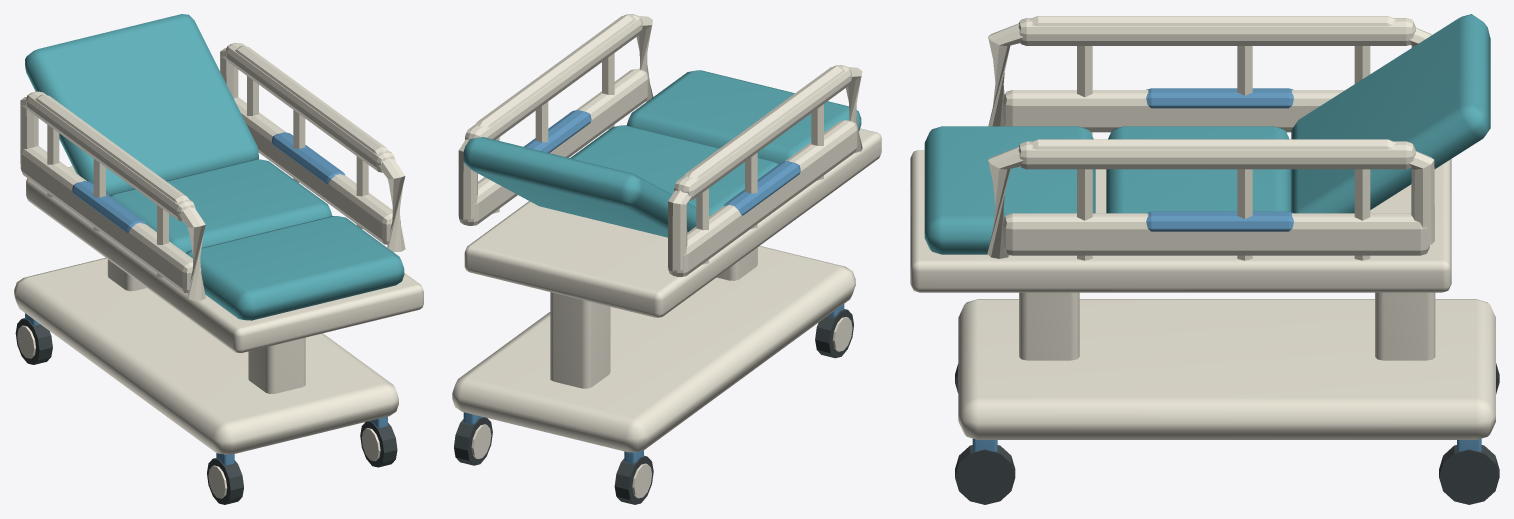
File: procedure_stretcher_standard.glb
3 views of the same model, side by side, from view 1: azimuth 30°, elevation 25°; view 2: azimuth 150°, elevation 25°; view 3: azimuth 270°, elevation 25° (orthographic). The views are drawn at different scales.
Visible parts, largest first — view 1: STATIC_procedure_stretcher_standard, MOVING_PIVOT_backrest_hinge.001, MOVING_PIVOT_side_rail_left.001, MOVING_PIVOT_side_rail_right.001; view 2: STATIC_procedure_stretcher_standard, MOVING_PIVOT_side_rail_left.001, MOVING_PIVOT_side_rail_right.001, MOVING_PIVOT_backrest_hinge.001; view 3: STATIC_procedure_stretcher_standard, MOVING_PIVOT_side_rail_right.001, MOVING_PIVOT_side_rail_left.001, MOVING_PIVOT_backrest_hinge.001.
Part boxes in pixels (x1=…): STATIC_procedure_stretcher_standard: x1=14, y1=159, x2=423, y2=504; MOVING_PIVOT_backrest_hinge.001: x1=25, y1=14, x2=258, y2=195; MOVING_PIVOT_side_rail_left.001: x1=20, y1=91, x2=205, y2=300; MOVING_PIVOT_side_rail_right.001: x1=220, y1=43, x2=405, y2=252; STATIC_procedure_stretcher_standard: x1=452, y1=70, x2=881, y2=504; MOVING_PIVOT_side_rail_left.001: x1=668, y1=65, x2=862, y2=276; MOVING_PIVOT_side_rail_right.001: x1=458, y1=14, x2=653, y2=225; MOVING_PIVOT_backrest_hinge.001: x1=463, y1=137, x2=696, y2=237; STATIC_procedure_stretcher_standard: x1=910, y1=126, x2=1499, y2=504; MOVING_PIVOT_side_rail_right.001: x1=987, y1=139, x2=1434, y2=260; MOVING_PIVOT_side_rail_left.001: x1=988, y1=16, x2=1431, y2=135; MOVING_PIVOT_backrest_hinge.001: x1=1291, y1=14, x2=1490, y2=213.
Size of the model in its own units: 0.901 by 1.22 by 1.66.
